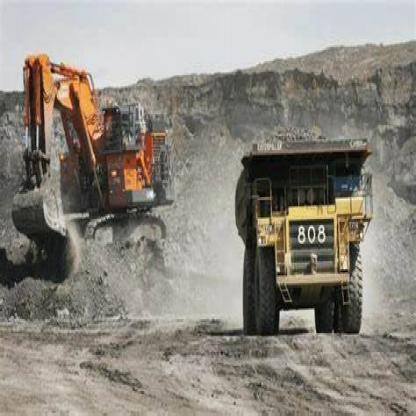dump_truck: (216, 108, 383, 360)
excavator: (8, 47, 174, 291)
